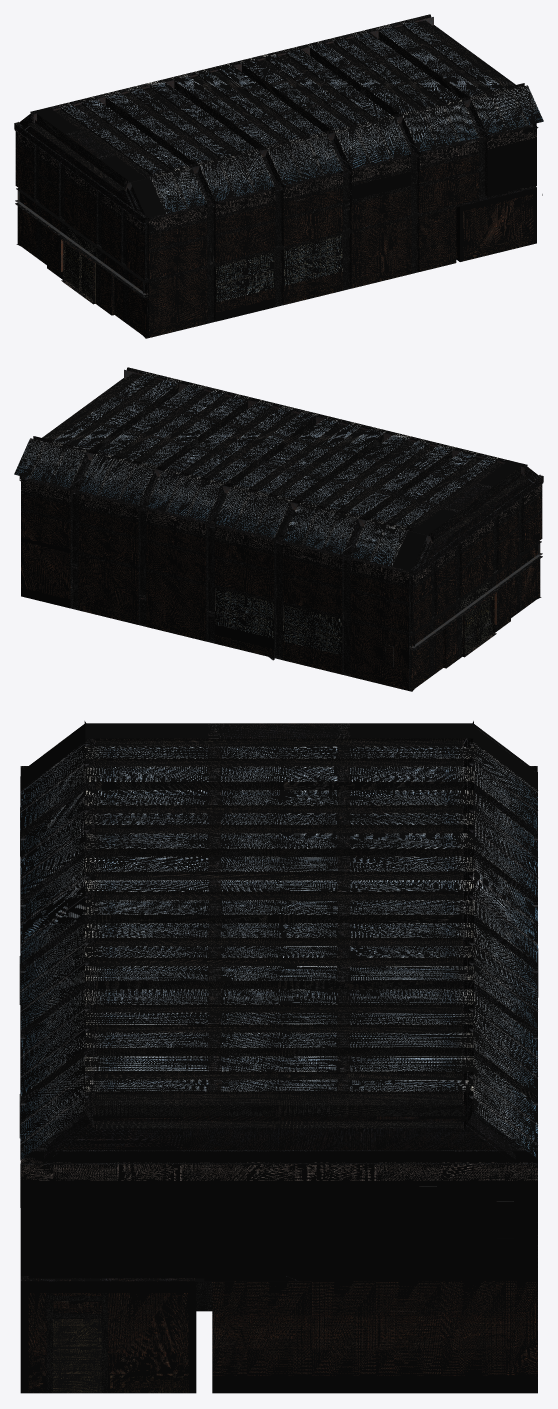
3 renders of one model, top to bottom at view 1: azimuth 30°, elevation 25°; view 2: azimuth 150°, elevation 25°; view 3: azimuth 270°, elevation 25°, orthographic. The views are drawn at different scales.
Visible parts, largest first — view 1: Material2.297; view 2: Material2.297; view 3: Material2.297.
Boxes of the visible parts, box(x1,y1,x2,y2) form: Material2.297: box(14, 14, 543, 338); Material2.297: box(14, 367, 543, 691); Material2.297: box(19, 721, 538, 1393).
Bounding box in the file's own units: 326 × 113 × 180.
40 materials, 40 textured.
